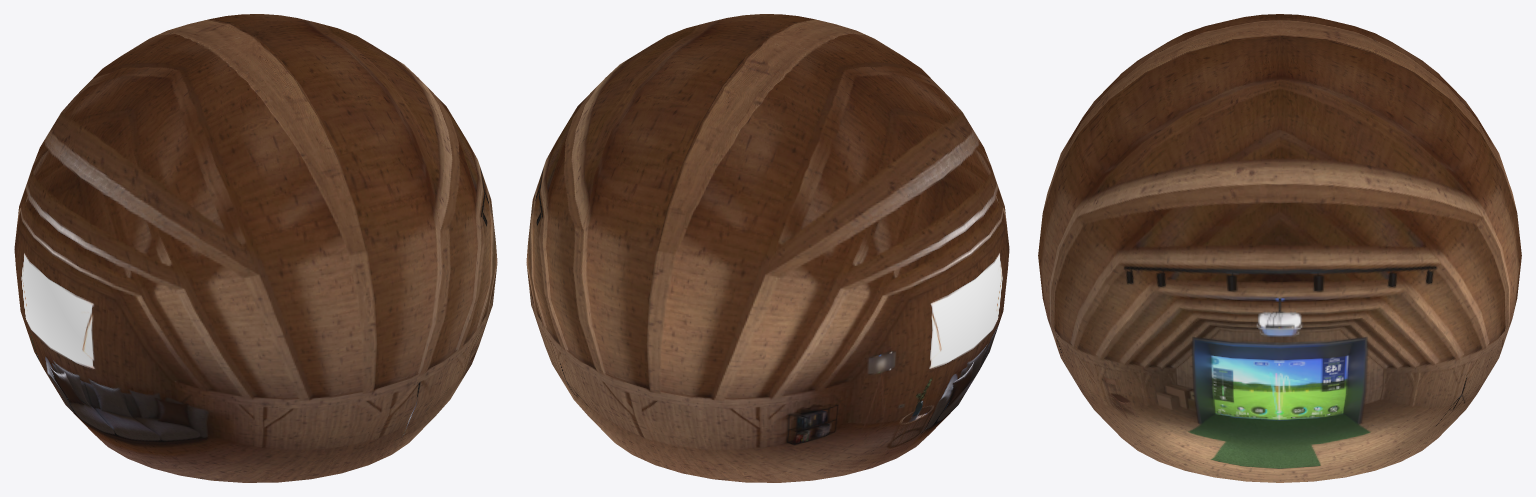
The model's file is Interior 67.glb.
The picture shows the model from 3 angles, left to right: view 1: azimuth 30°, elevation 25°; view 2: azimuth 150°, elevation 25°; view 3: azimuth 270°, elevation 25°; orthographic projection.
Parts seen in each view (by area): view 1: Sphere; view 2: Sphere; view 3: Sphere.
Part boxes in pixels (x1,y1,x2,y2): Sphere: (14, 14, 497, 482); Sphere: (526, 14, 1009, 482); Sphere: (1038, 14, 1521, 482).
Bounding box in the file's own units: 20 × 17.07 × 20.
Materials: 1 (1 with a texture image).
